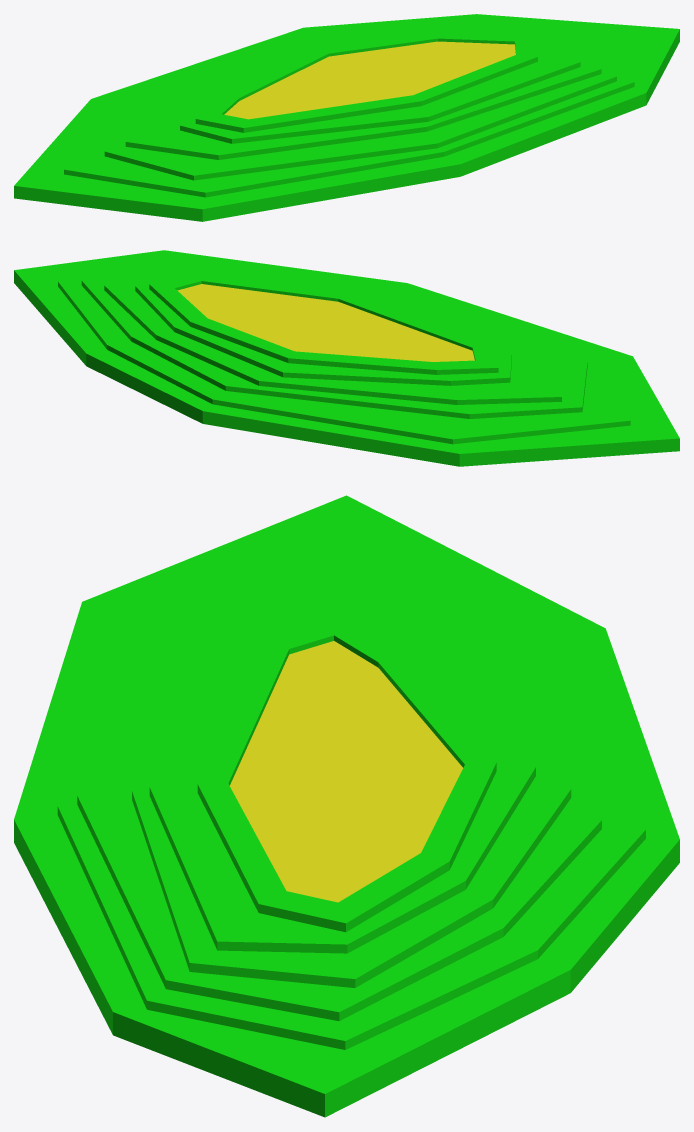
Rendered from Lamp_15.fbx.
The picture shows the model from 3 angles, top to bottom: view 1: azimuth 30°, elevation 25°; view 2: azimuth 150°, elevation 25°; view 3: azimuth 270°, elevation 25°; orthographic projection. The views are drawn at different scales.
Parts seen in each view (by area): view 1: Lamp_15; view 2: Lamp_15; view 3: Lamp_15.
Part boxes in pixels (x1,y1,x2,y2): Lamp_15: (14,14,679,221); Lamp_15: (14,250,679,466); Lamp_15: (14,495,679,1117).
Size of the model in its own units: 271 by 14.47 by 127.
